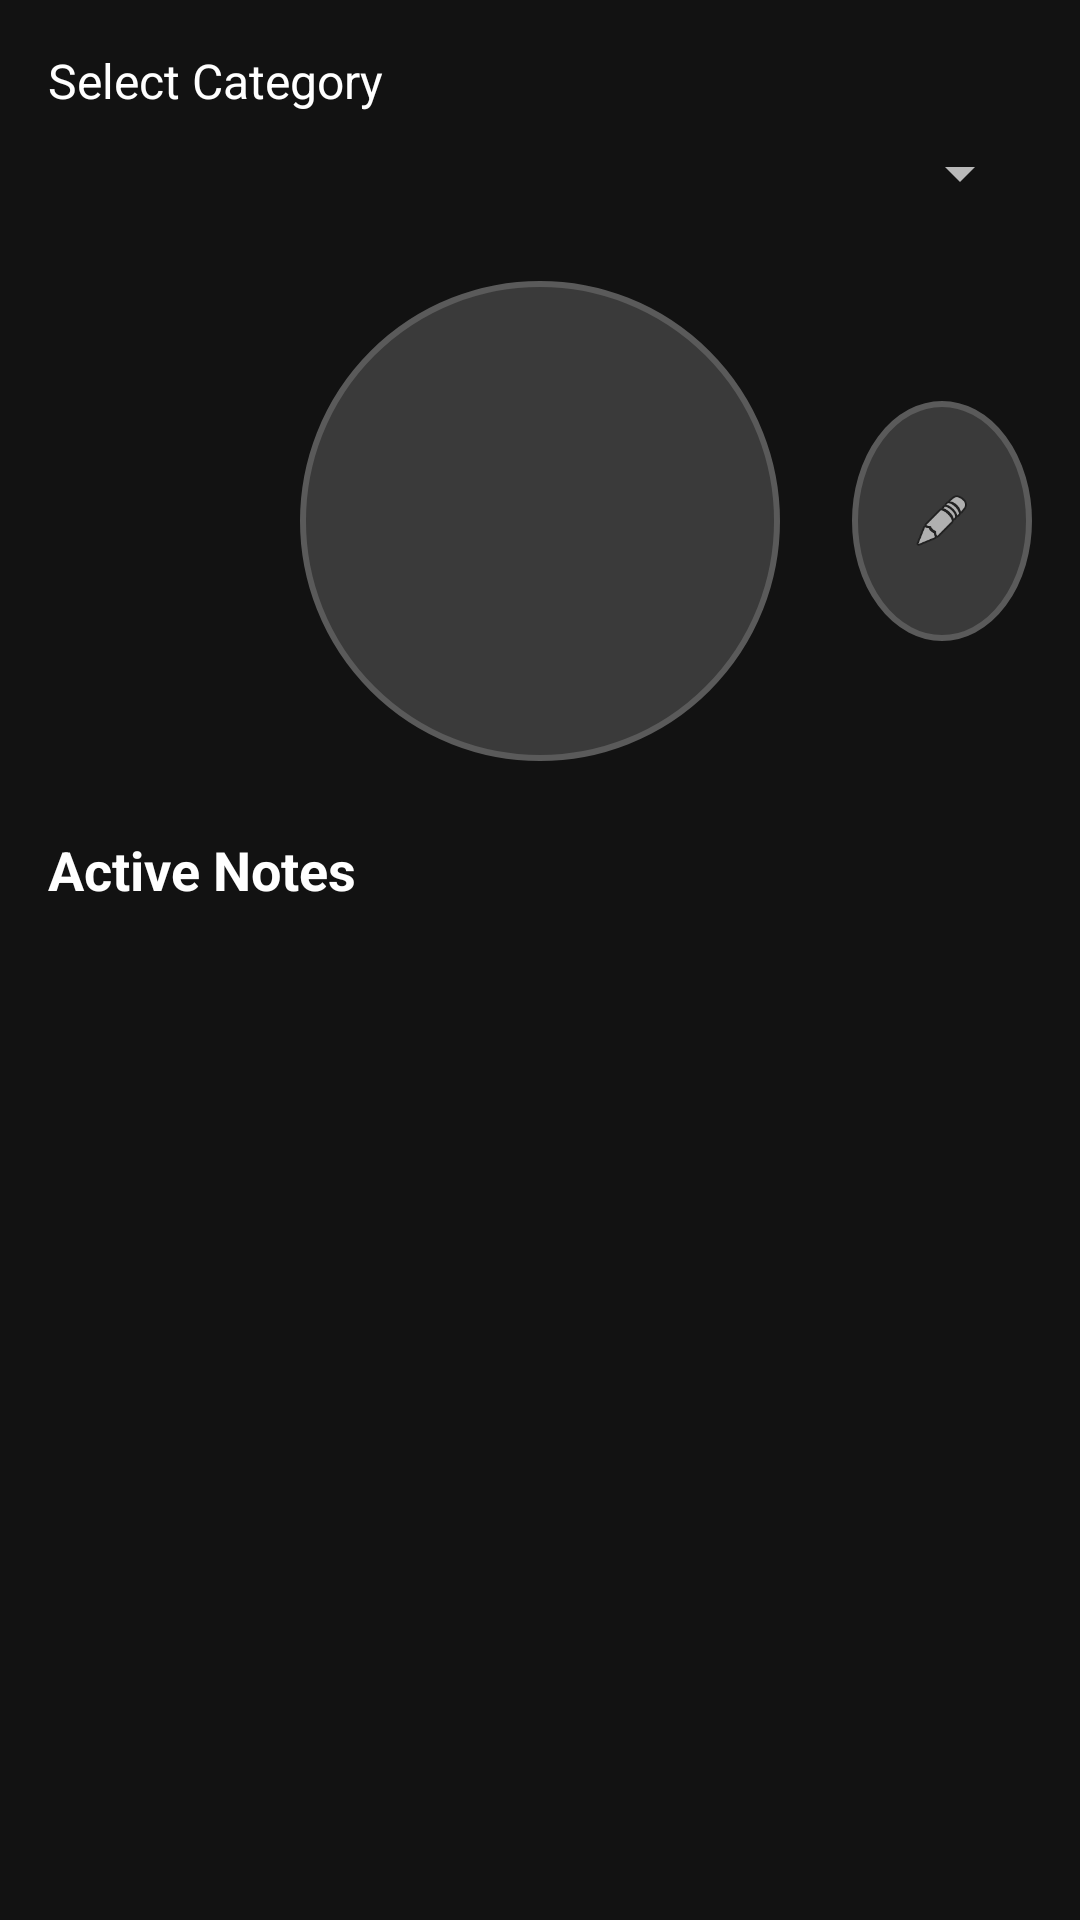

Icons on this 1080w x 1920h Android screen, each with the point to tap as point (x, y):
Add Text Note: point (942, 521)
